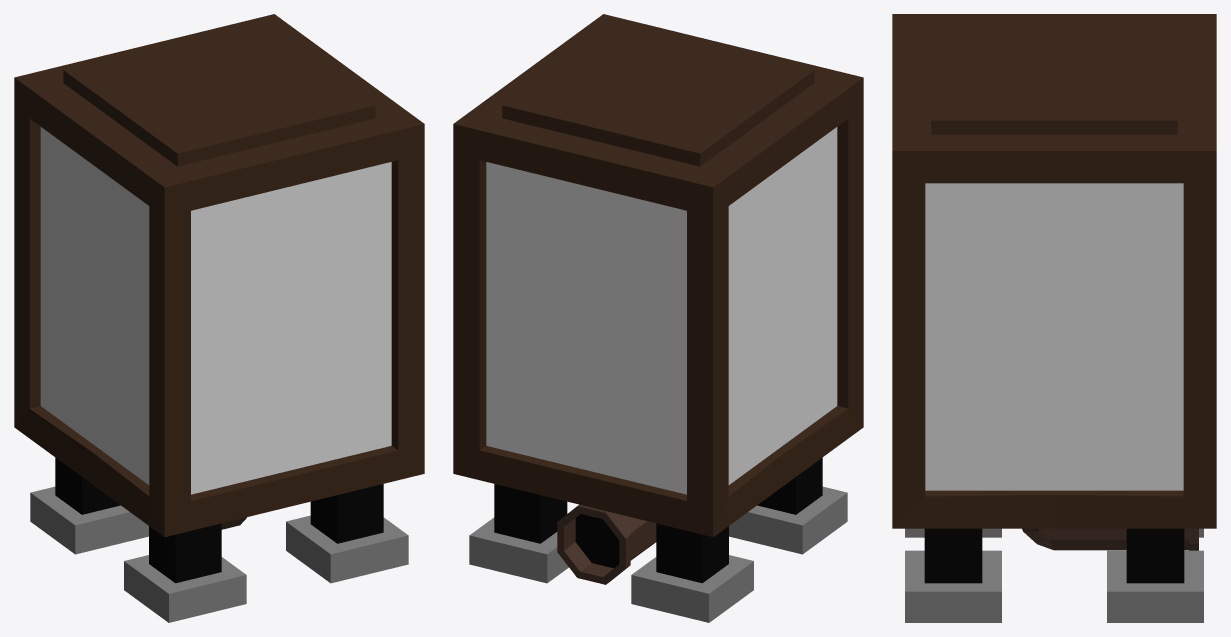
File: MediumTank.fbx
The picture shows the model from 3 angles, left to right: view 1: azimuth 30°, elevation 25°; view 2: azimuth 150°, elevation 25°; view 3: azimuth 270°, elevation 25°; orthographic projection. The views are drawn at different scales.
Parts seen in each view (by area): view 1: Cube.007, Cube.011; view 2: Cube.007, Cube.011, Cylinder.020; view 3: Cube.007, Cube.011, Cylinder.020.
Part boxes in pixels (x1,y1,x2,y2): Cube.007: (14,14,424,622); Cube.011: (40,127,391,494); Cube.007: (453,14,863,622); Cube.011: (486,127,837,494); Cylinder.020: (557,504,656,584); Cube.007: (892,14,1216,622); Cube.011: (925,183,1183,490); Cylinder.020: (1022,528,1198,550).
Size of the model in its own units: 139 by 232 by 139.
